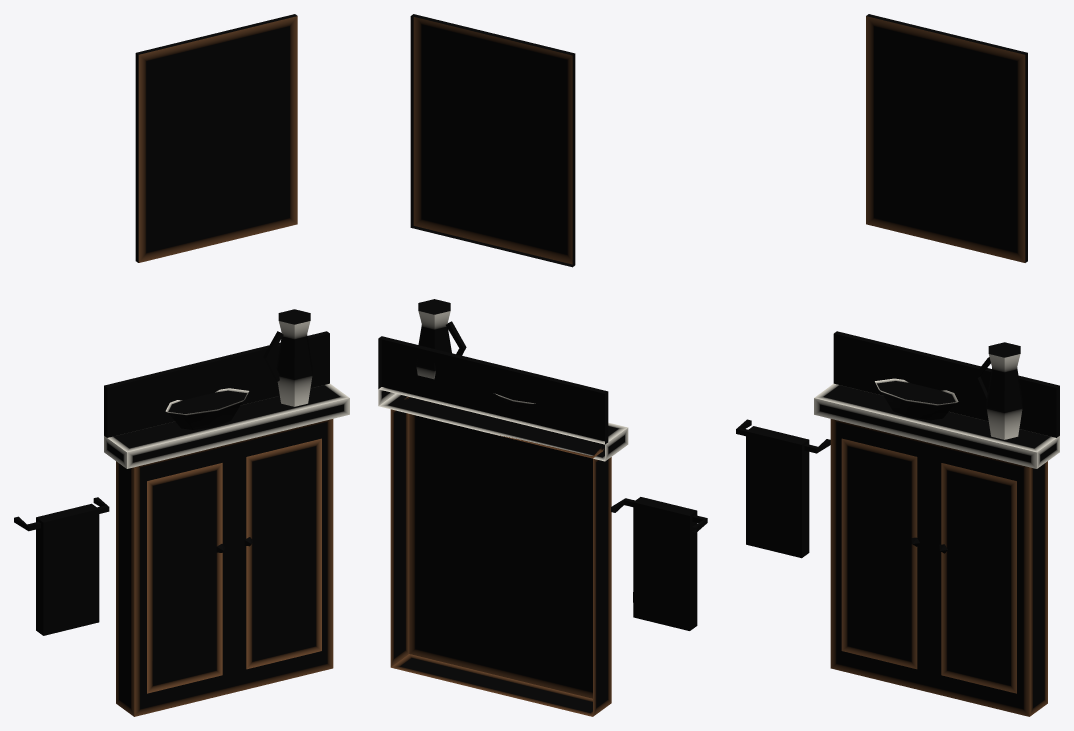
File: washstand.glb
3 renders of one model, left to right at view 1: azimuth 30°, elevation 25°; view 2: azimuth 150°, elevation 25°; view 3: azimuth 330°, elevation 25°, orthographic.
Visible parts, largest first — view 1: frame, teak, mirror, enamel, linen, stripe; view 2: frame, enamel, linen, stripe; view 3: frame, teak, mirror, enamel, linen, stripe.
Part boxes in pixels (x1,y1,x2,y2): frame: (116, 14, 333, 716); teak: (147, 438, 321, 693); mirror: (155, 37, 282, 413); enamel: (104, 321, 349, 468); linen: (36, 503, 99, 635); stripe: (43, 597, 99, 621); frame: (390, 14, 611, 716); enamel: (378, 311, 628, 461); linen: (633, 497, 697, 630); stripe: (633, 592, 689, 616); frame: (830, 14, 1047, 716); teak: (841, 438, 1016, 693); mirror: (877, 37, 1008, 404); enamel: (814, 331, 1059, 468); linen: (746, 426, 809, 558); stripe: (746, 520, 801, 543).
Size of the model in its own units: 0.7857 by 1.55 by 0.1.
